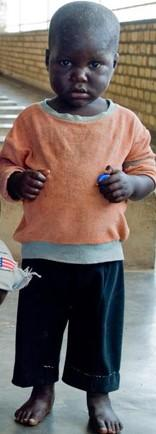MalNutrisi: (0, 2, 130, 136)
